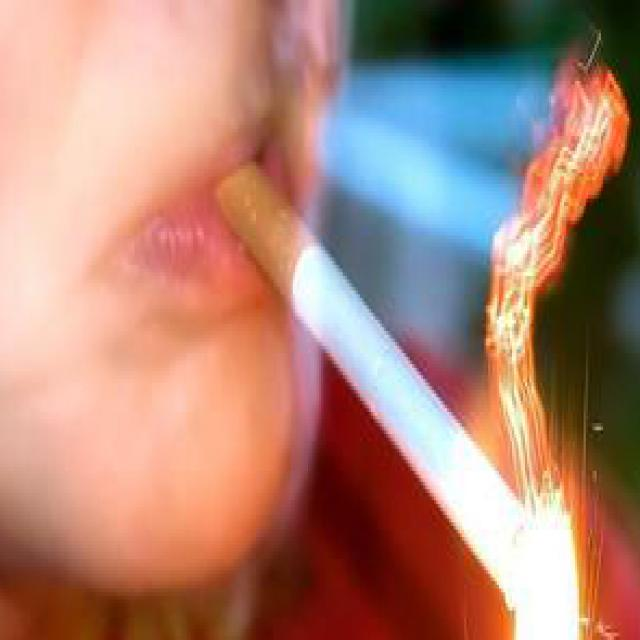smoking: (218, 155, 535, 572)
